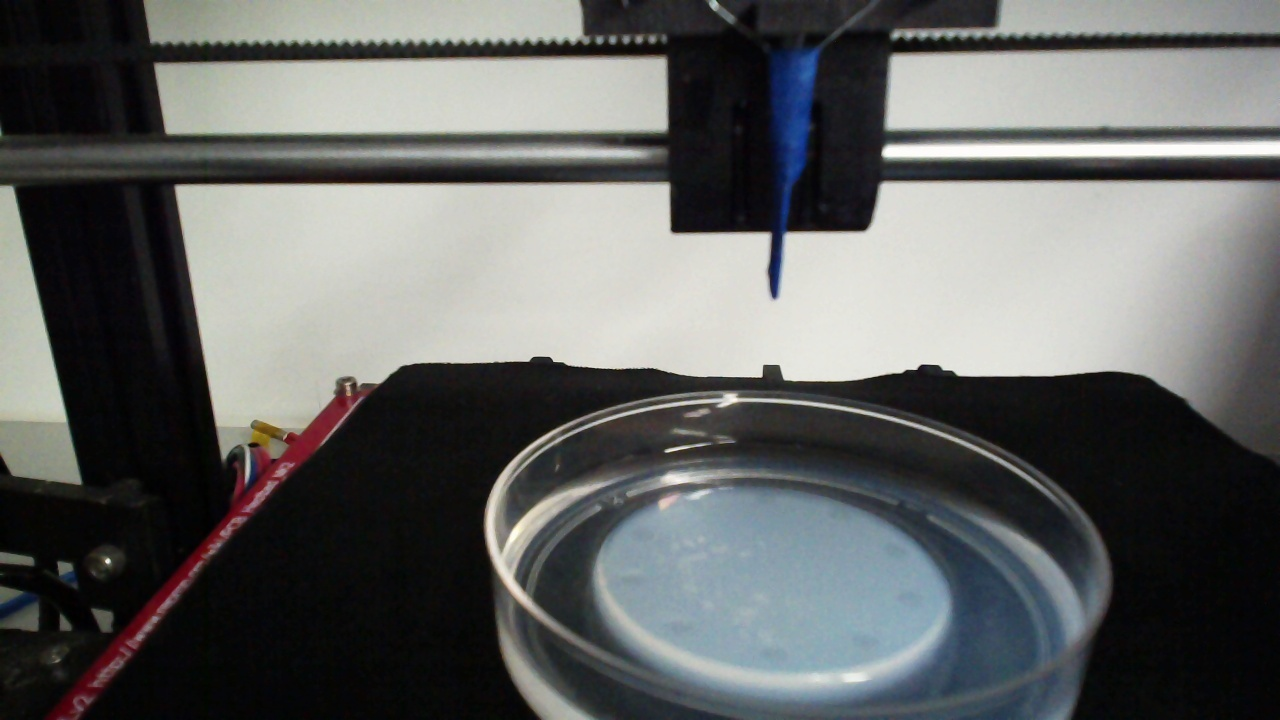groove: (611, 569, 647, 591), (622, 524, 656, 547), (661, 617, 696, 639), (764, 645, 797, 667), (895, 588, 926, 611), (851, 633, 883, 654), (751, 486, 780, 508), (883, 541, 911, 562), (828, 505, 856, 525)
needle: (767, 52, 817, 297)
